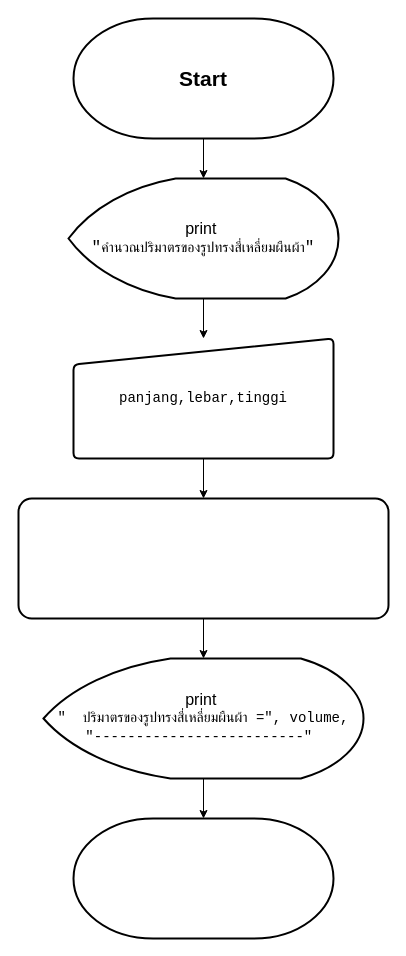
This 406x956 diagram has some shape labels left out. The shapes that lost their labels are listed below. From the top down, each one's centre as x and y in pixels, then its label:
(x=203, y=558): volume = panjang * lebar * tinggi
(x=203, y=878): Stop
